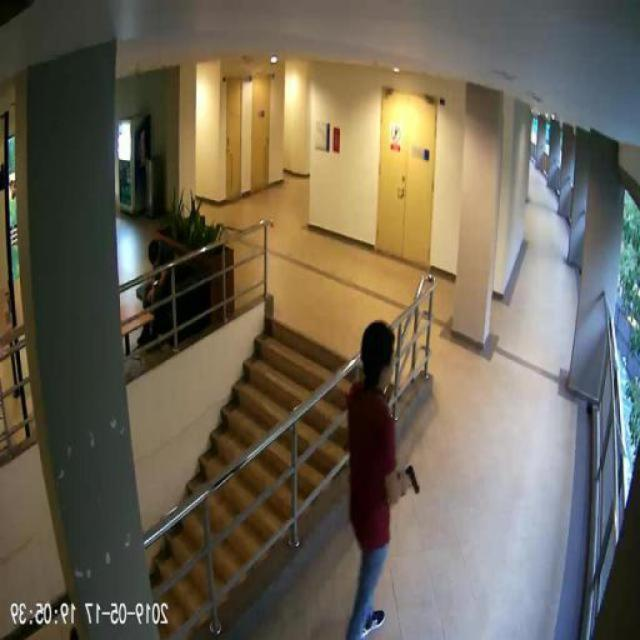pistol: (404, 463, 422, 492)
